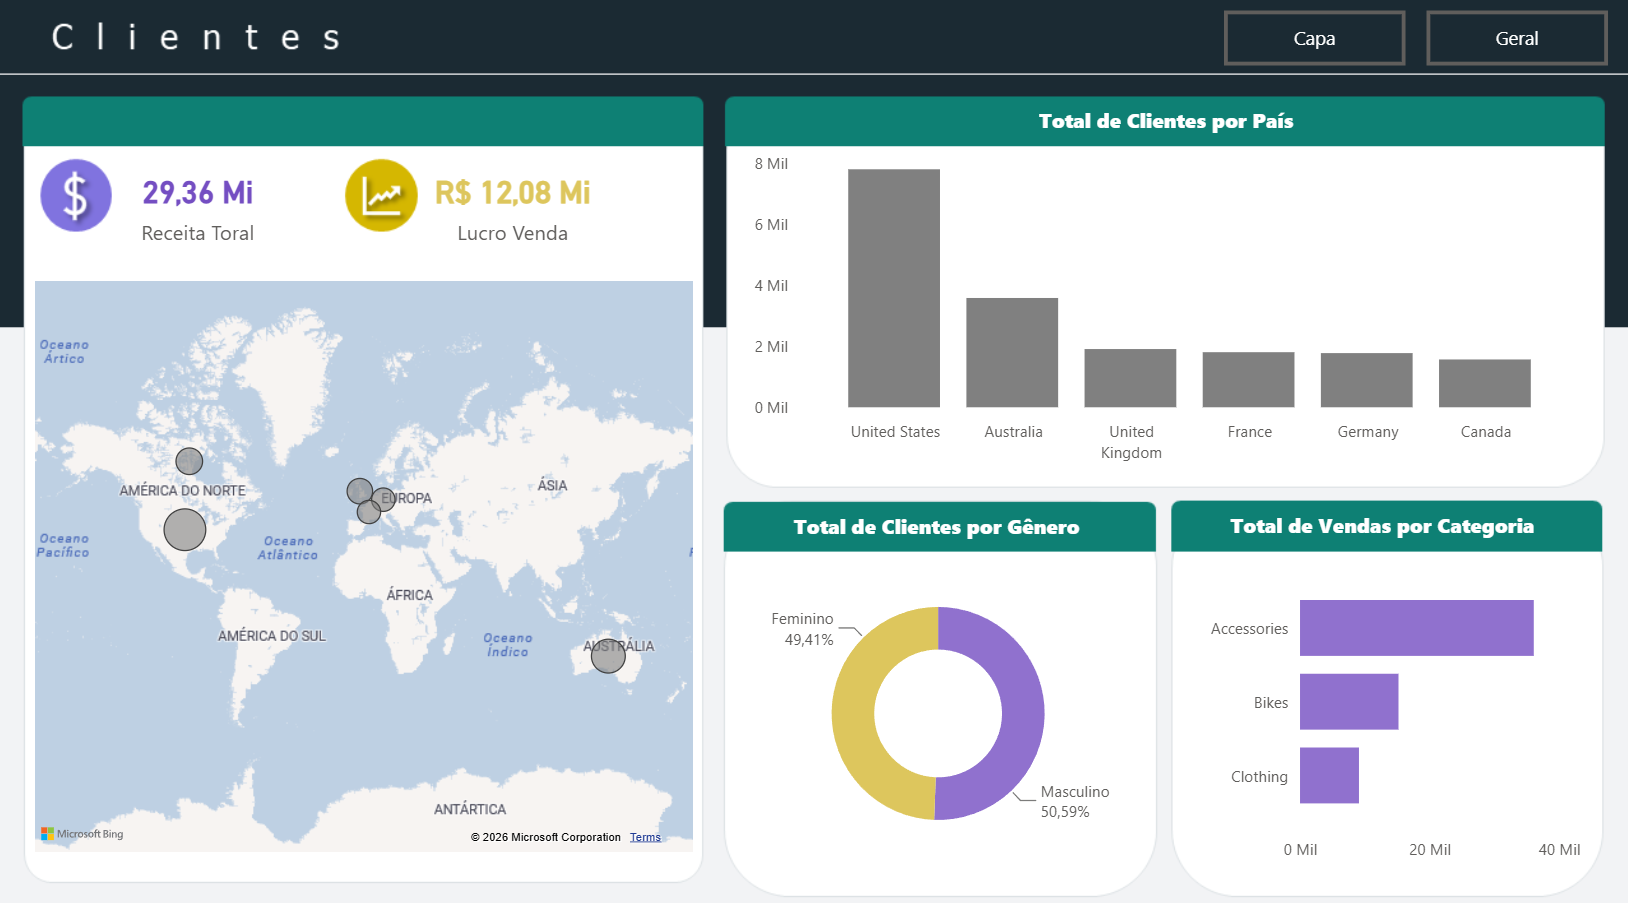

Layout of this report page (visuals, bound fields, positions):
{"tool":"powerbi","page":{"name":"CLIENTES","canvas":[1280,720],"ordinal":2},"visuals":[{"type":"card","title":"Receita Total","fields":{"Values":["Sum(RESULTADOS_ADW.RECEITA VENDA)"]},"box":[43.1,113.6,227.2,92],"z":0},{"type":"card","title":"Receita Total","fields":{"Values":["Sum(RESULTADOS_ADW.LUCRO VENDA)"]},"box":[290.5,113.6,227.2,92],"z":1000},{"type":"map","fields":{"Category":["RESULTADOS_ADW.PAÍS"],"Size":["Sum(RESULTADOS_ADW.QTD. VENDIDA)"]},"box":[24.5,215.5,526.4,458.2],"z":2000},{"type":"actionButton","box":[0,0,100,40],"z":3000},{"type":"clusteredColumnChart","fields":{"Category":["RESULTADOS_ADW.PAÍS"],"Y":["Count(RESULTADOS_ADW.ID CLIENTE)"]},"box":[588.2,113.6,658.7,256],"z":4000},{"type":"textbox","box":[755,77.7,323.6,34.5],"z":5000},{"type":"donutChart","fields":{"Category":["RESULTADOS_ADW.SEXO"],"Y":["Count(RESULTADOS_ADW.ID CLIENTE)"]},"box":[588.2,434.3,299.1,250.2],"z":6000},{"type":"textbox","box":[575.2,396.9,323.6,34.5],"z":7000},{"type":"clusteredBarChart","fields":{"Category":["RESULTADOS_ADW.CATEGORIA PRODUTO"],"Y":["Sum(RESULTADOS_ADW.QTD. VENDIDA)"]},"box":[937.6,434.3,309.2,250.2],"z":8000},{"type":"textbox","box":[914.6,395.5,349.5,34.5],"z":9000},{"type":"actionButton","box":[962.1,8.6,142.4,43.1],"z":10000},{"type":"actionButton","box":[1121.7,8.6,142.4,43.1],"z":11000}]}

Visuals, with their boxes in screenshot pixels (x1, y1, x2, y2), scaled from the page's 1280x720 canvas onto the 1628x903 screenshot:
"Receita Total" card: bbox=(55, 142, 344, 258)
"Receita Total" card: bbox=(369, 142, 658, 258)
map - RESULTADOS_ADW.PAÍS x Sum(RESULTADOS_ADW.QTD. VENDIDA): bbox=(31, 270, 701, 845)
actionButton: bbox=(0, 0, 127, 50)
clusteredColumnChart - RESULTADOS_ADW.PAÍS x Count(RESULTADOS_ADW.ID CLIENTE): bbox=(748, 142, 1586, 464)
textbox: bbox=(960, 97, 1372, 141)
donutChart - RESULTADOS_ADW.SEXO x Count(RESULTADOS_ADW.ID CLIENTE): bbox=(748, 545, 1129, 858)
textbox: bbox=(732, 498, 1143, 541)
clusteredBarChart - RESULTADOS_ADW.CATEGORIA PRODUTO x Sum(RESULTADOS_ADW.QTD. VENDIDA): bbox=(1193, 545, 1586, 858)
textbox: bbox=(1163, 496, 1608, 539)
actionButton: bbox=(1224, 11, 1405, 65)
actionButton: bbox=(1427, 11, 1608, 65)
